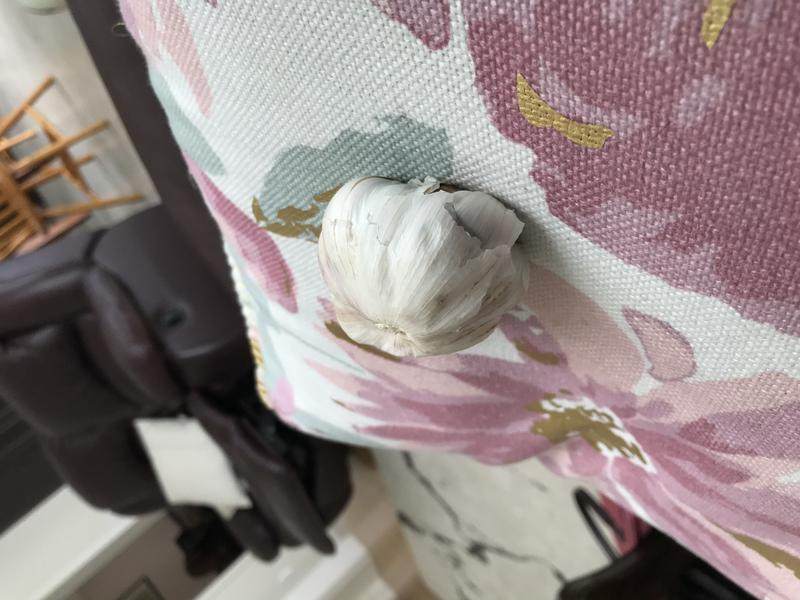garlic: (308, 168, 536, 366)
